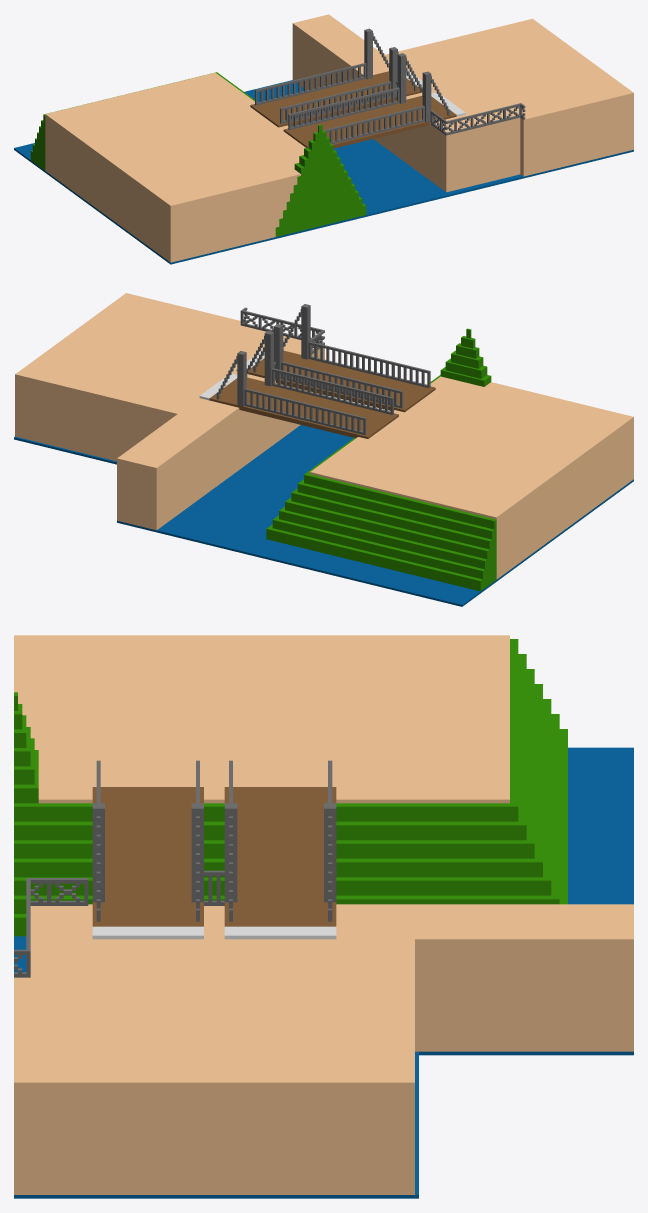
Rendered from castelloVillafranca-2.obj.
The picture shows the model from 3 angles, top to bottom: view 1: azimuth 30°, elevation 25°; view 2: azimuth 150°, elevation 25°; view 3: azimuth 270°, elevation 25°; orthographic projection. The views are drawn at different scales.
Size of the model in its own units: 25.6 by 5.7 by 15.
Materials: 1 (1 with a texture image).
